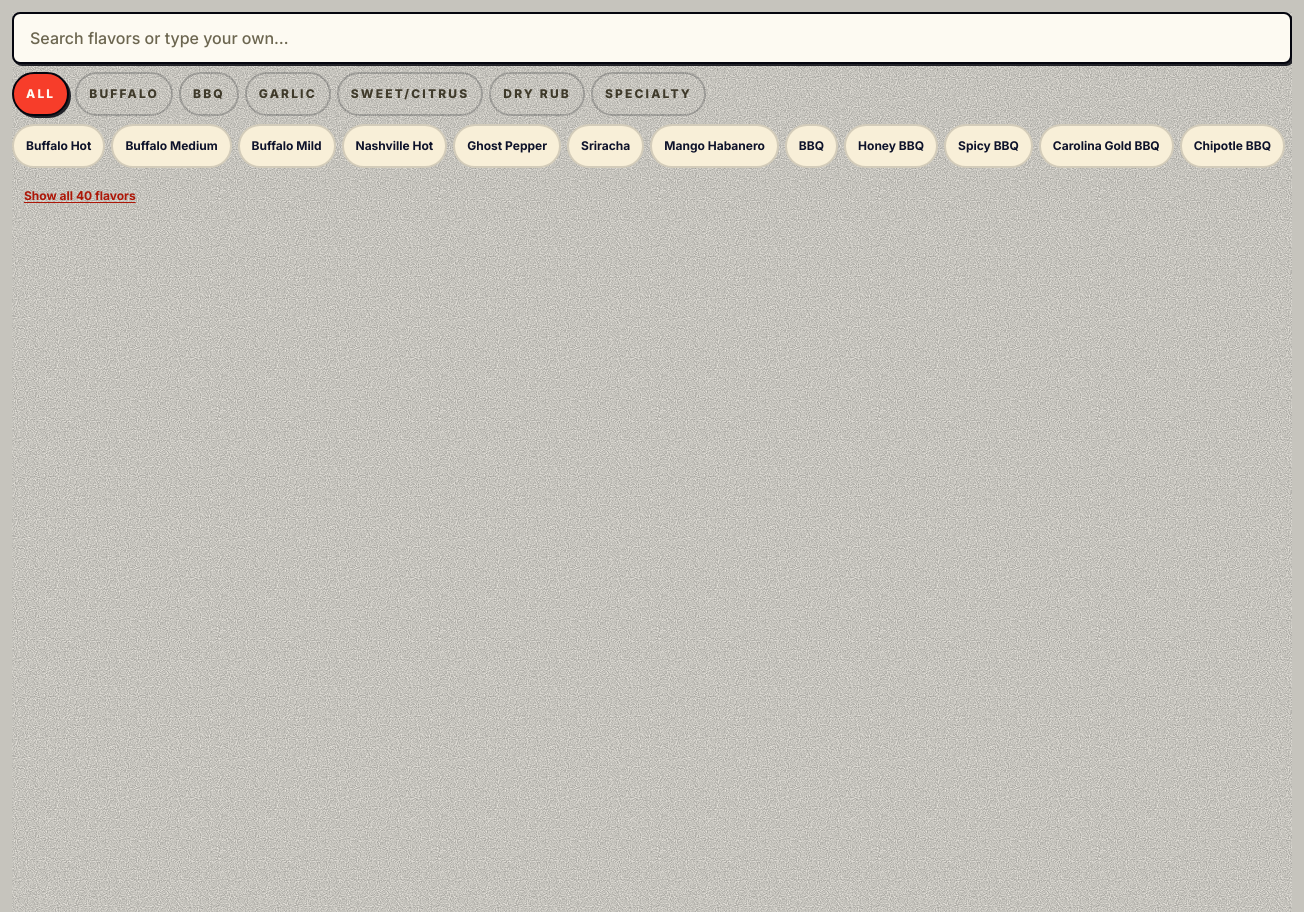
Test case: WingFlavorPicker › has no inner scroll box; shows a short list with a "Show all" toggle
Expected: the button "Plain/Naked" is not shown
Click the button "Show all 40 flavors": [80, 196] box [12,174,148,218]
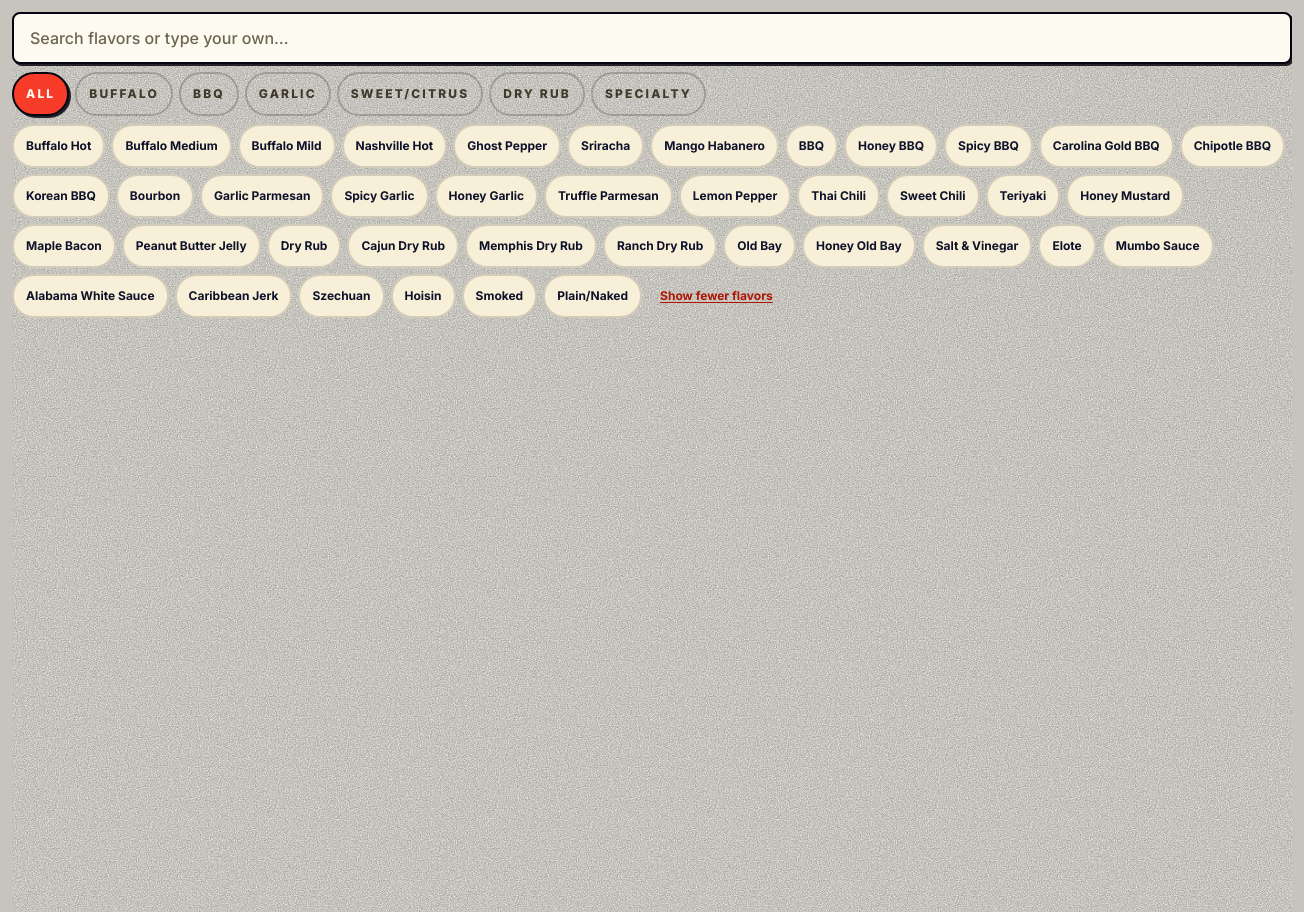
Now the button "Plain/Naked" is shown, box [543,274,642,318]
Now the button "Show fewer flavors" is shown, box [648,274,785,318]
